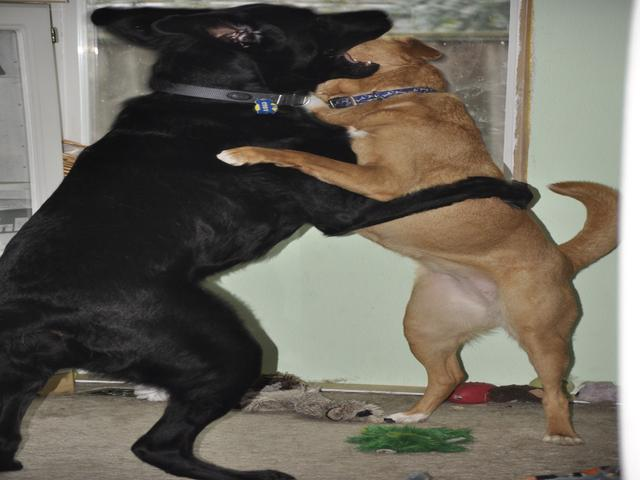dog: (314, 19, 635, 439), (65, 4, 398, 397)
